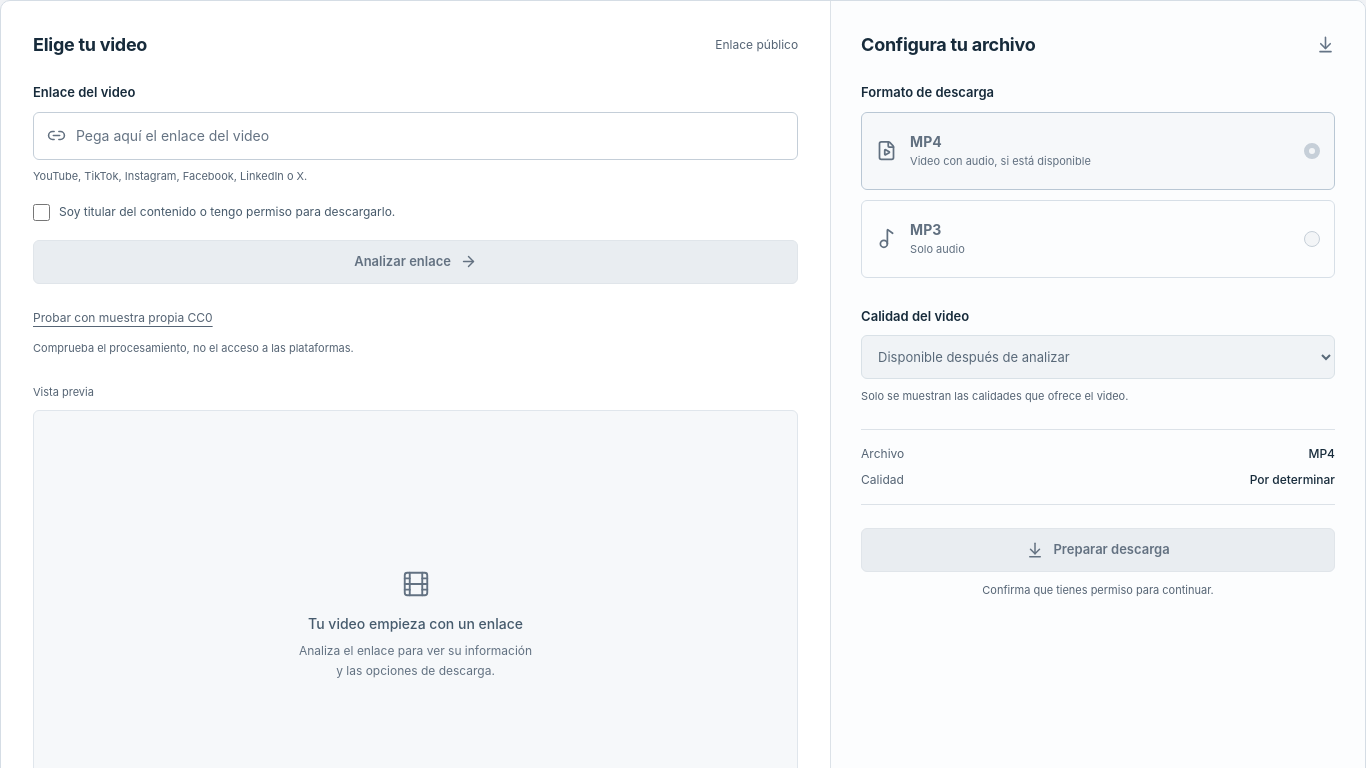
Test: Export desk › bounds inspection time and aborts the request with a retryable message
Type "https://www.youtube.com/watch?v=example" into the field labelled "Enlace del video" at (430, 136), box [76,112,784,158]
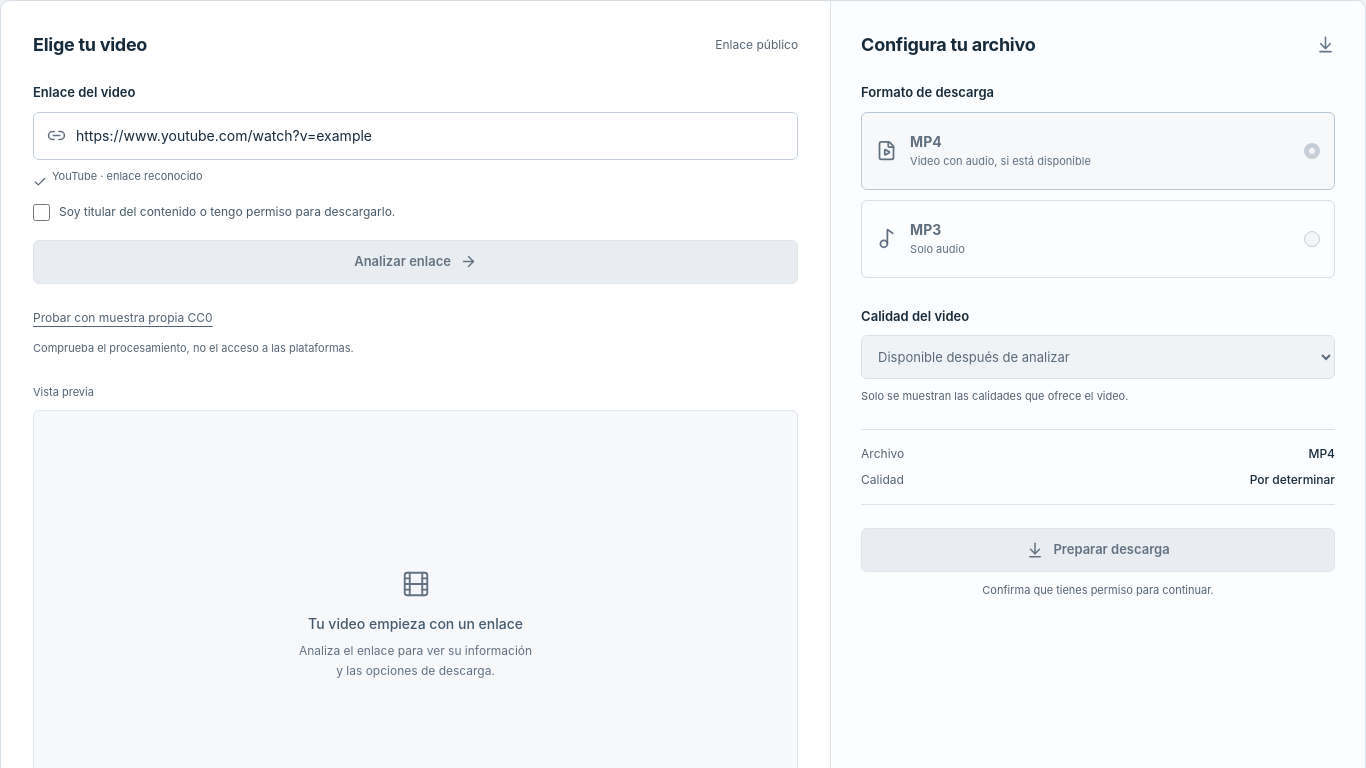
Click the checkbox at (42, 212), box [33,204,50,220]
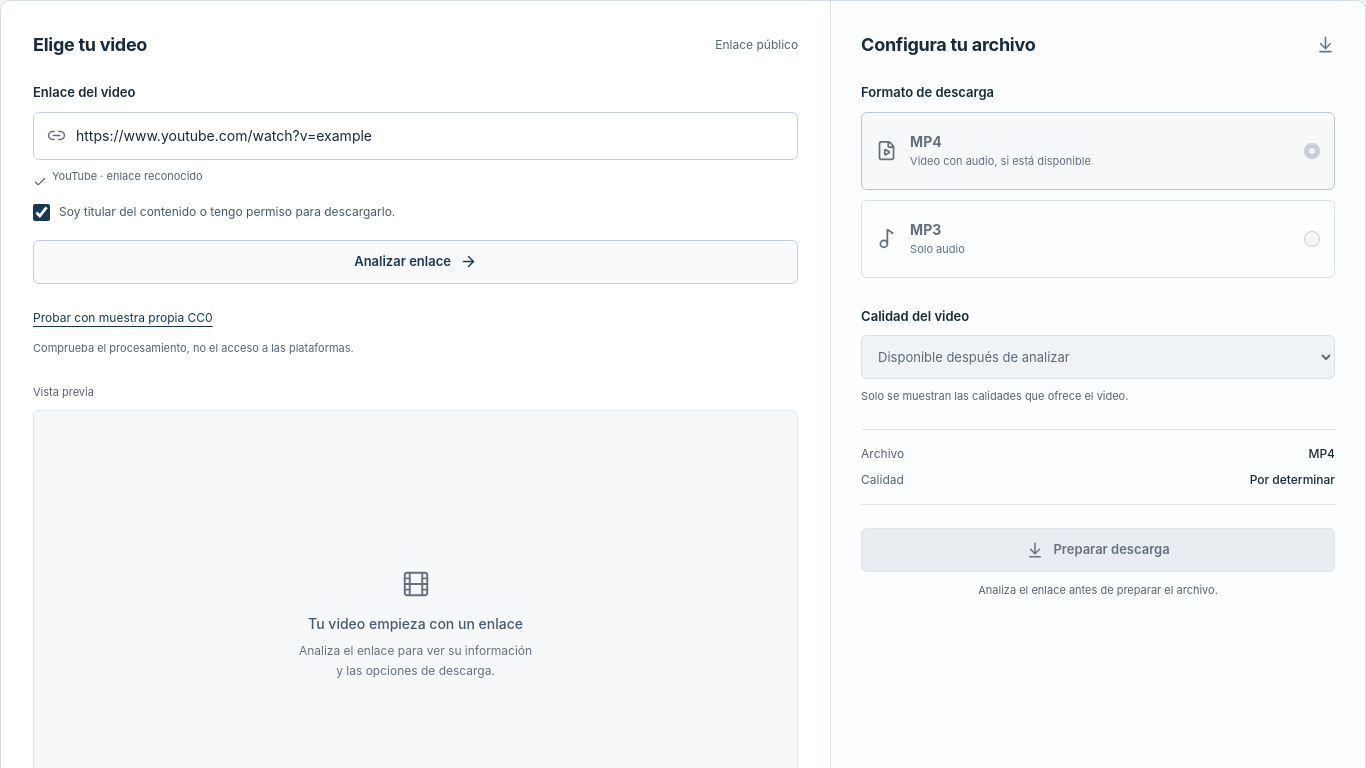
Click the button "Analizar enlace" at (416, 262), box [33,240,798,284]
Wait 45001 ms
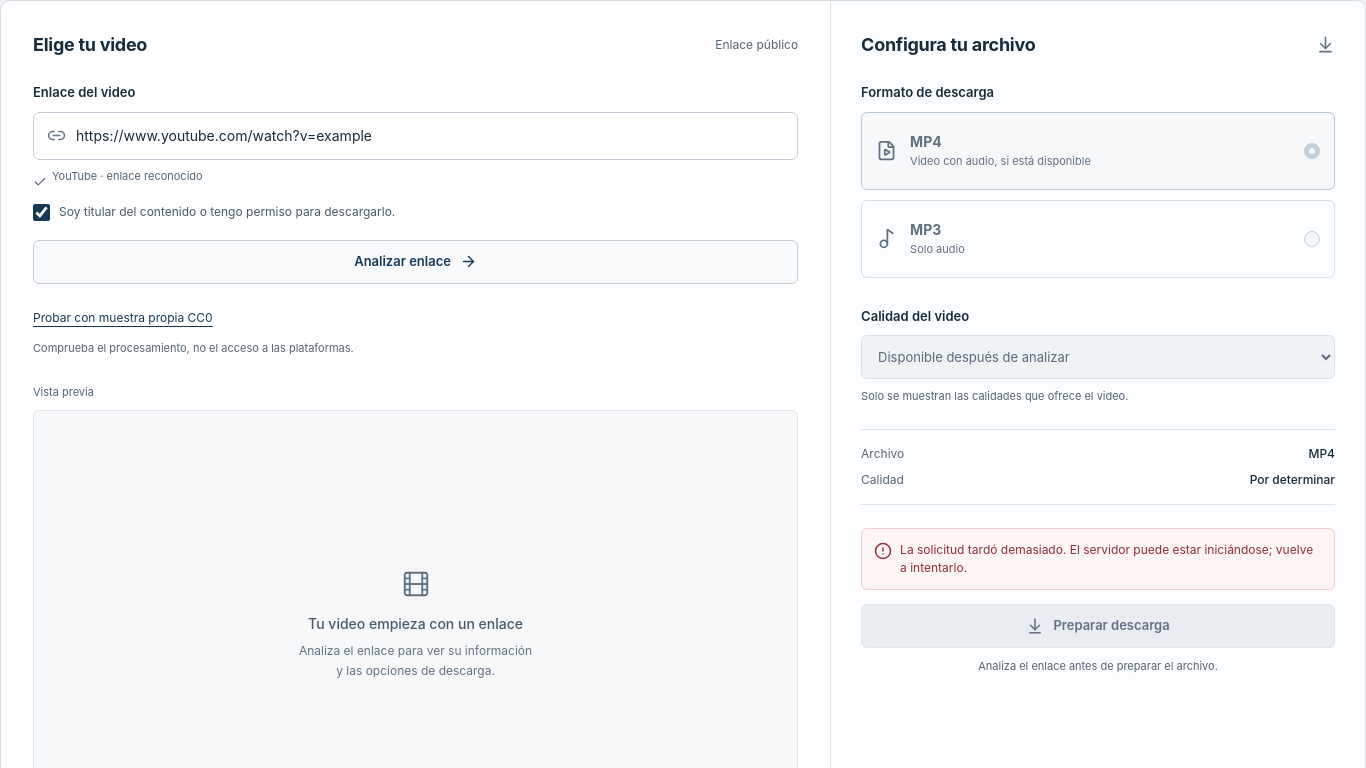
Expected: the button "Analizar enlace" is enabled, [33,240,798,284]
Expected: the message shows "tardó demasiado", [900,542,1313,574]
